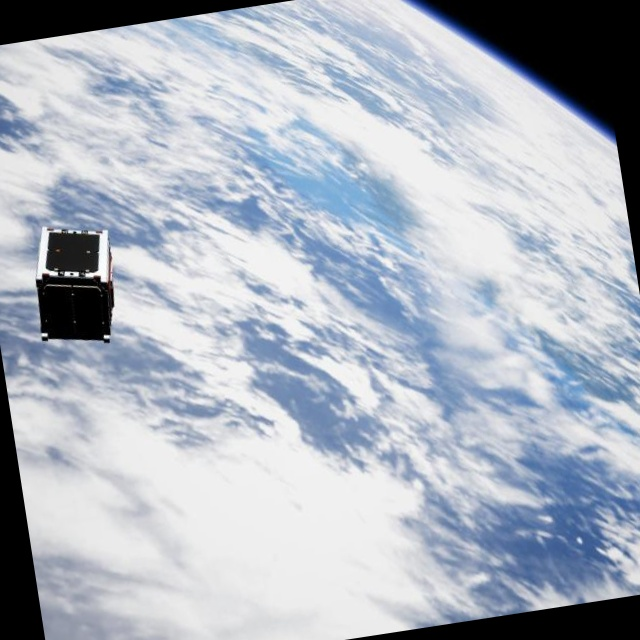satellite: (17, 211, 128, 355)
